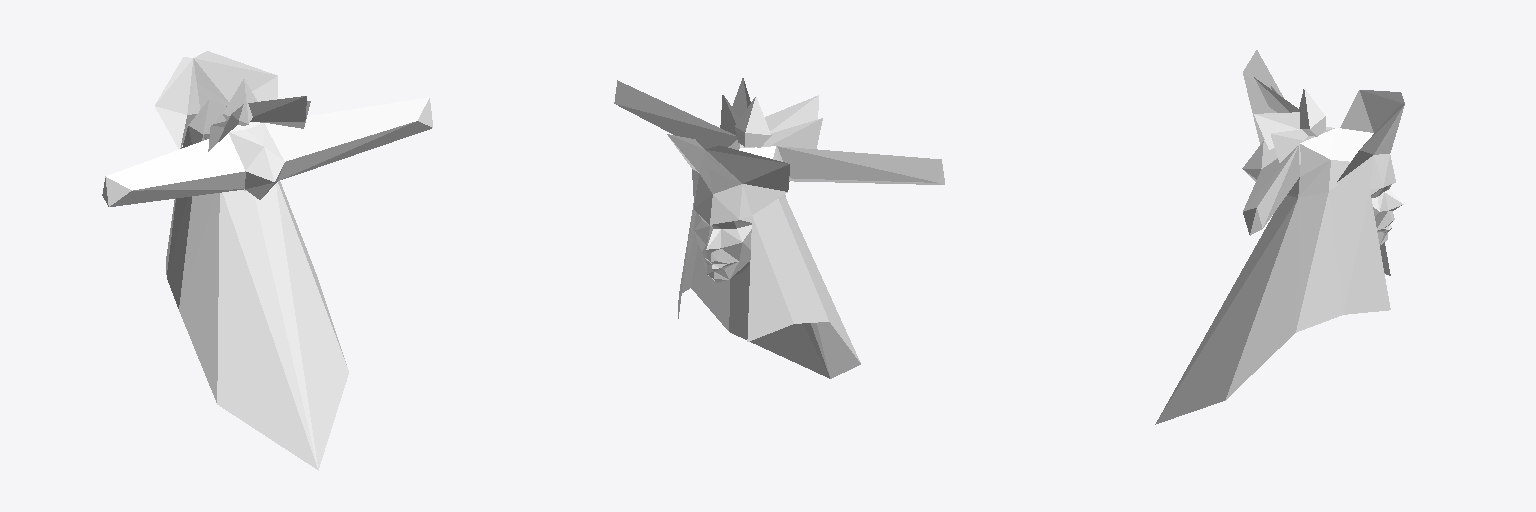
Rendered from 2_mi_helmet_17.obj.
3 renders of one model, left to right at view 1: azimuth 30°, elevation 25°; view 2: azimuth 150°, elevation 25°; view 3: azimuth 270°, elevation 25°, orthographic.
Parts seen in each view (by area): view 1: defaultobject; view 2: defaultobject; view 3: defaultobject.
Part boxes in pixels (x1,y1,x2,y2): defaultobject: (102, 51, 432, 470); defaultobject: (614, 78, 944, 378); defaultobject: (1155, 50, 1404, 424).
Size of the model in its own units: 16.61 by 16.51 by 11.07.